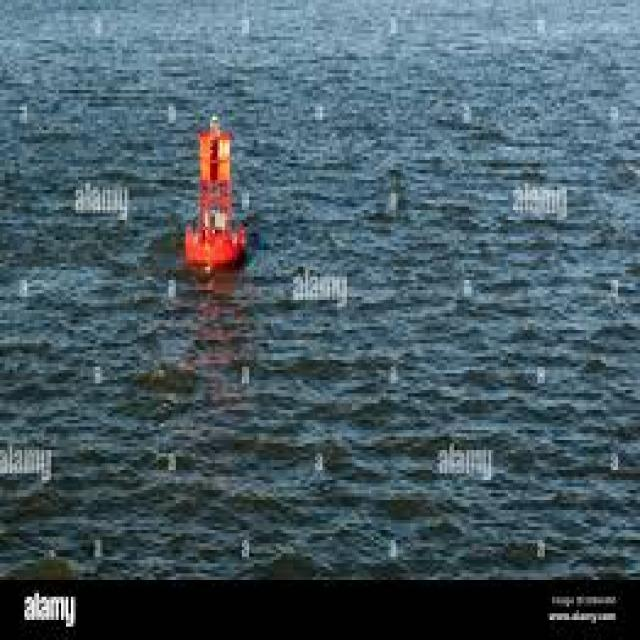buoy: (186, 103, 247, 286)
